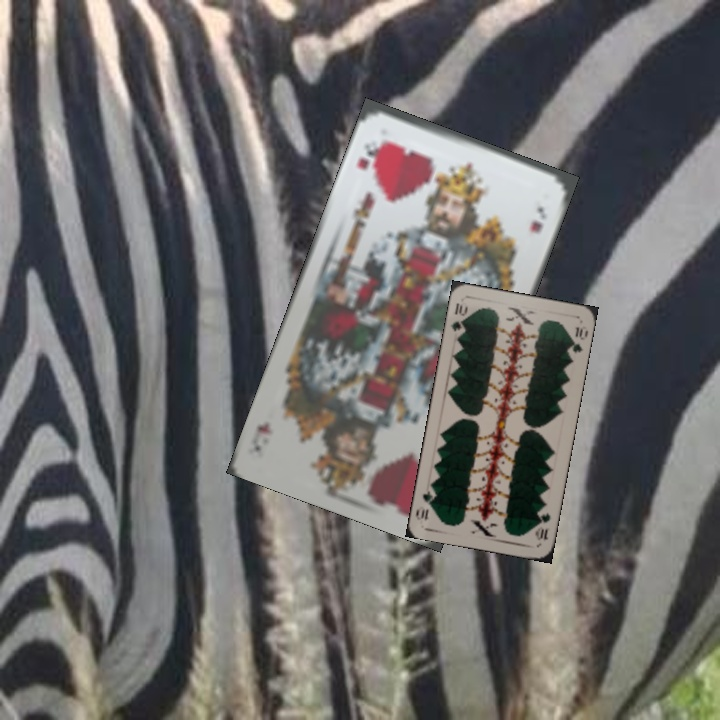G10: (531, 504, 553, 542), (447, 298, 470, 334)
HK: (352, 135, 386, 172)
